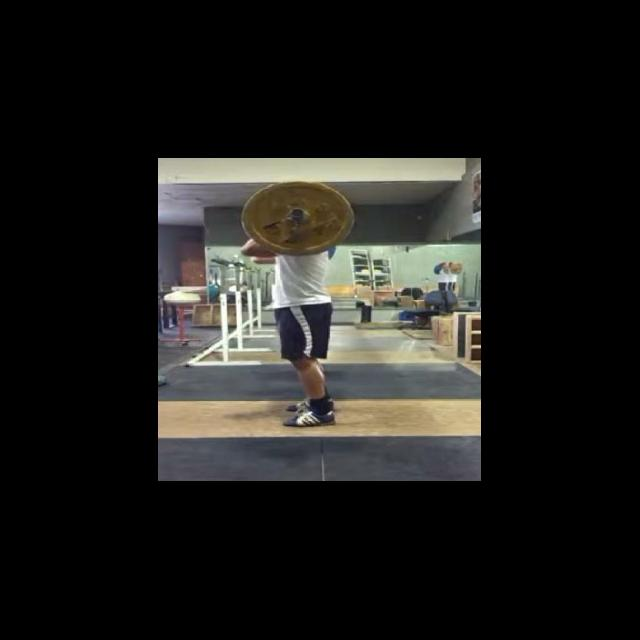barbell: (240, 177, 353, 257)
